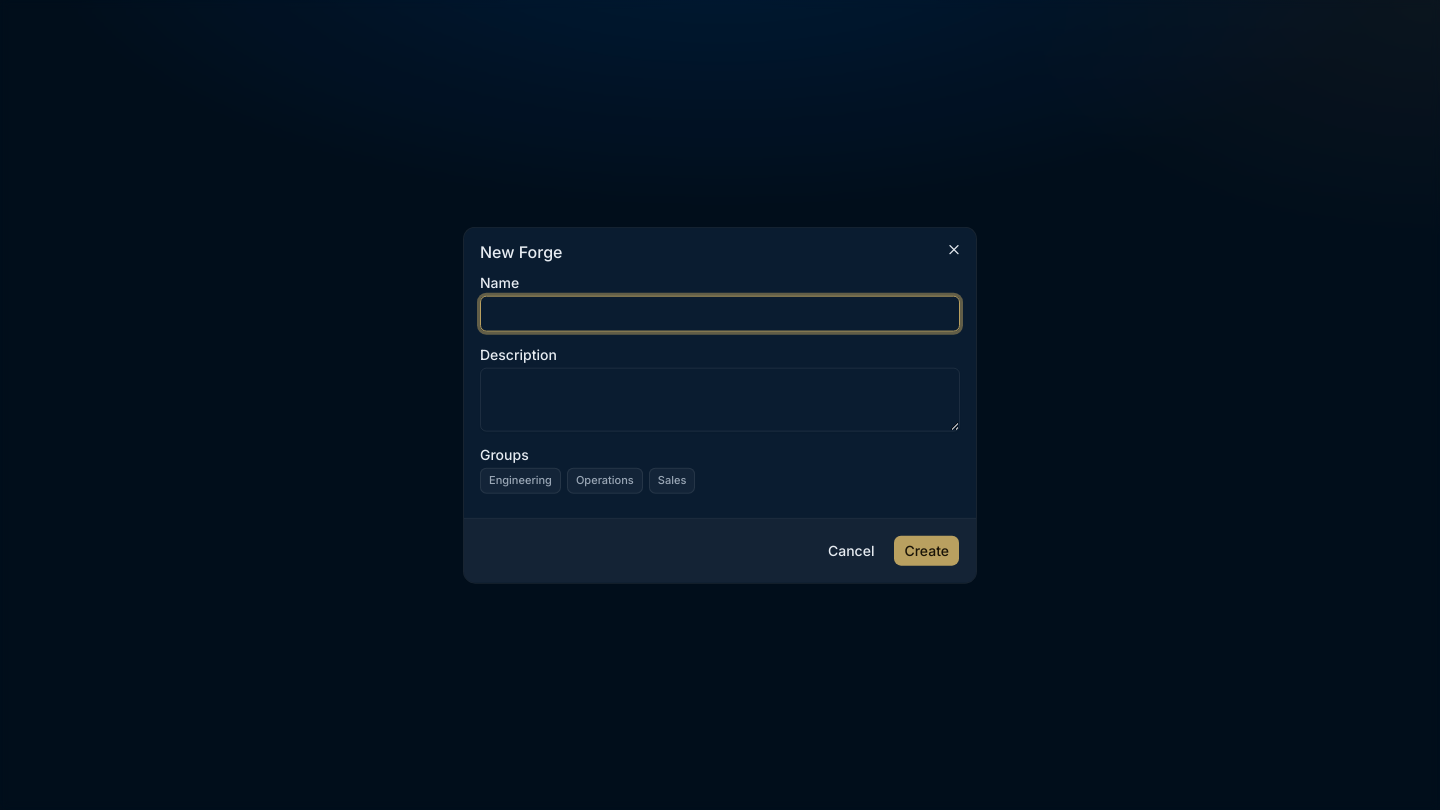
Test case: ForgeFormModal › blocks submit and surfaces a groups error when nothing is picked
This screenshot has width=1440, height=810.
In the field labelled "Name": {"x": 720, "y": 314} [480,296,960,332], type "Test"
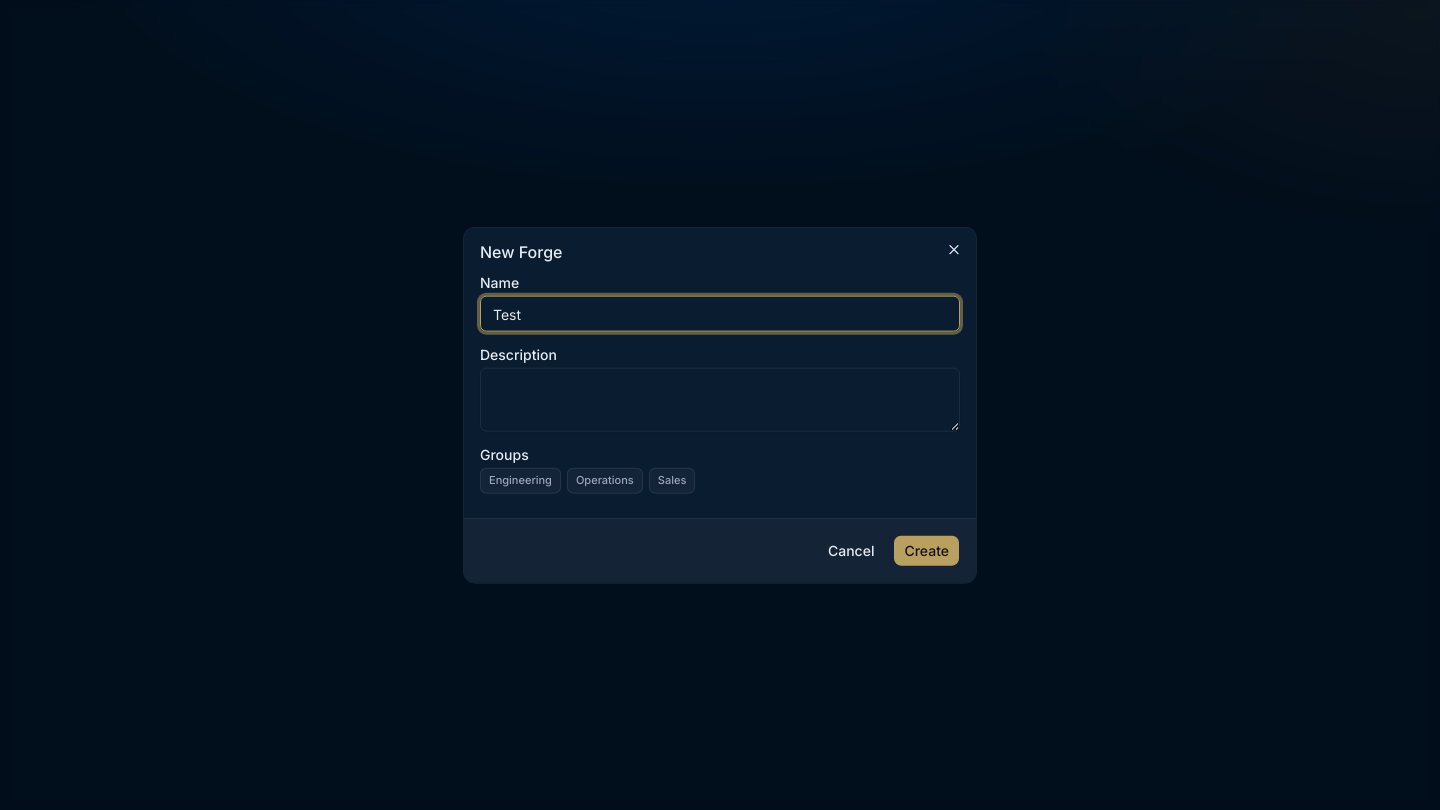
Click the button "Create": {"x": 927, "y": 550} [893,534,960,566]
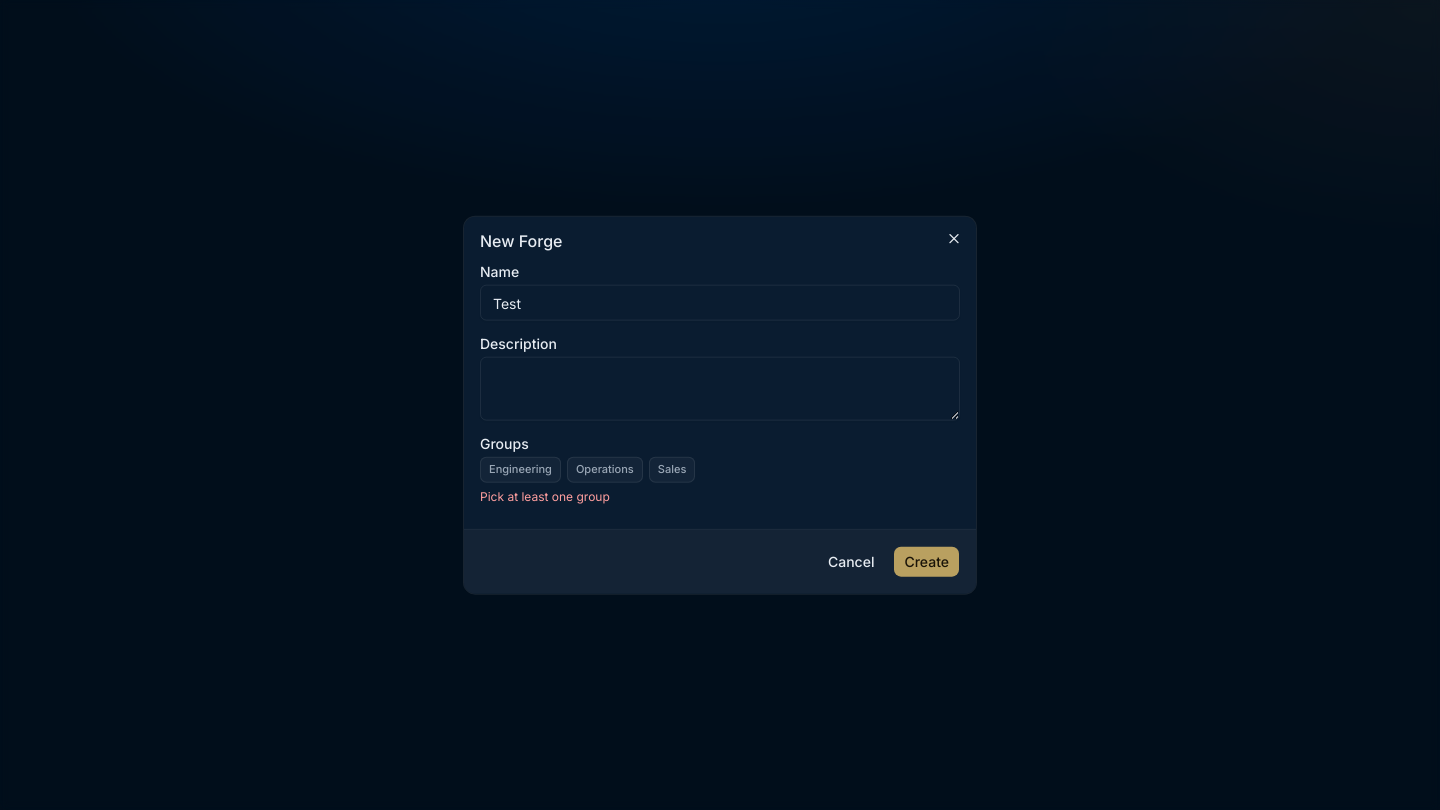
Expected: the text "Pick at least one group" is shown, [480,488,610,503]
